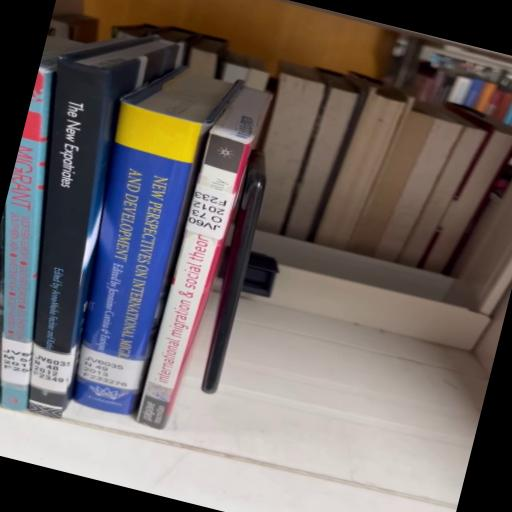book: (29, 38, 183, 419), (75, 68, 243, 416), (2, 146, 41, 411)
reverse: (137, 88, 272, 430)
